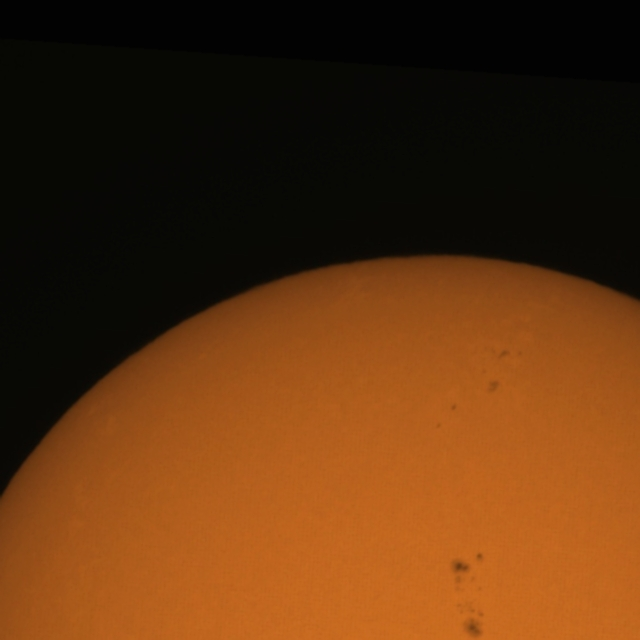sunspot: (450, 552, 486, 596), (454, 602, 485, 639), (480, 367, 501, 397), (495, 348, 522, 361), (486, 378, 501, 396), (475, 552, 484, 562), (434, 421, 443, 430), (450, 402, 458, 412)
